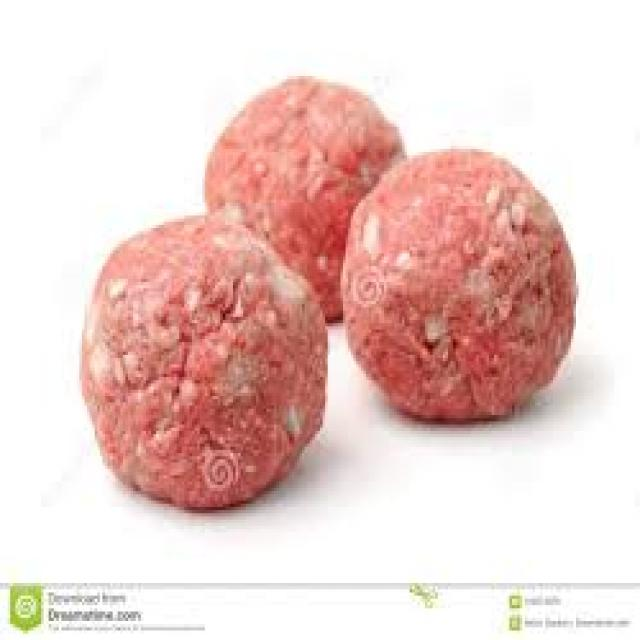meatball: (59, 208, 336, 513), (334, 148, 593, 447)
